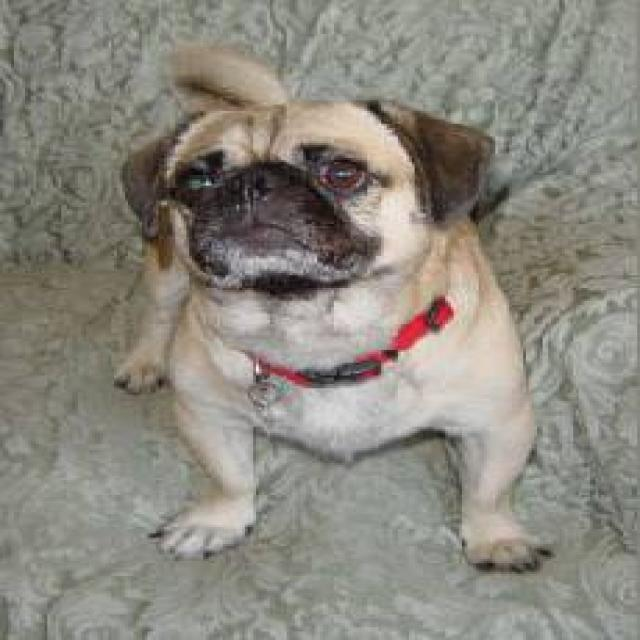dog-pug: (106, 49, 551, 567)
